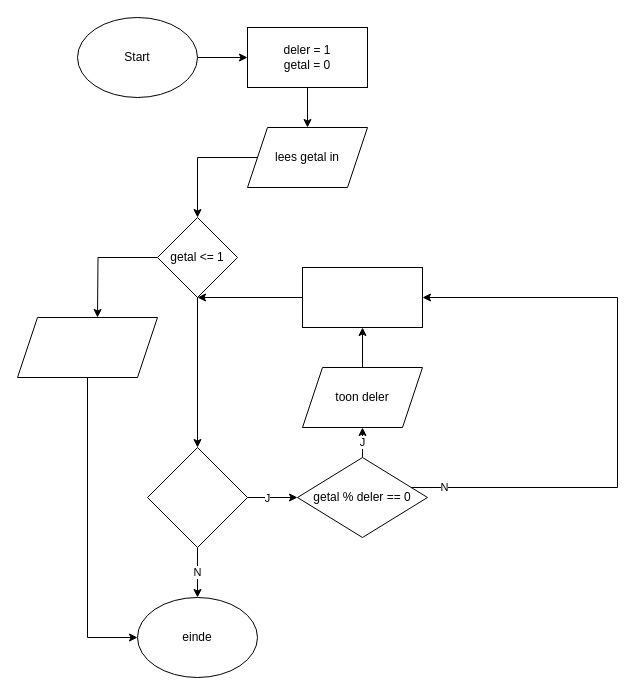
This 643x695 diagram has some shape labels left out. The centre of each missing label's shape, as x and y in pixels:
deler <= getal: pixel 197 497
deler++: pixel 362 297
toon "negatief getal": pixel 87 347
